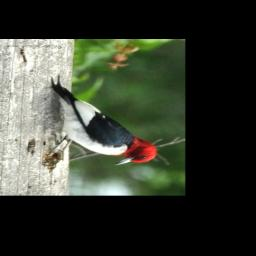Woodpecker: (51, 77, 158, 166)
